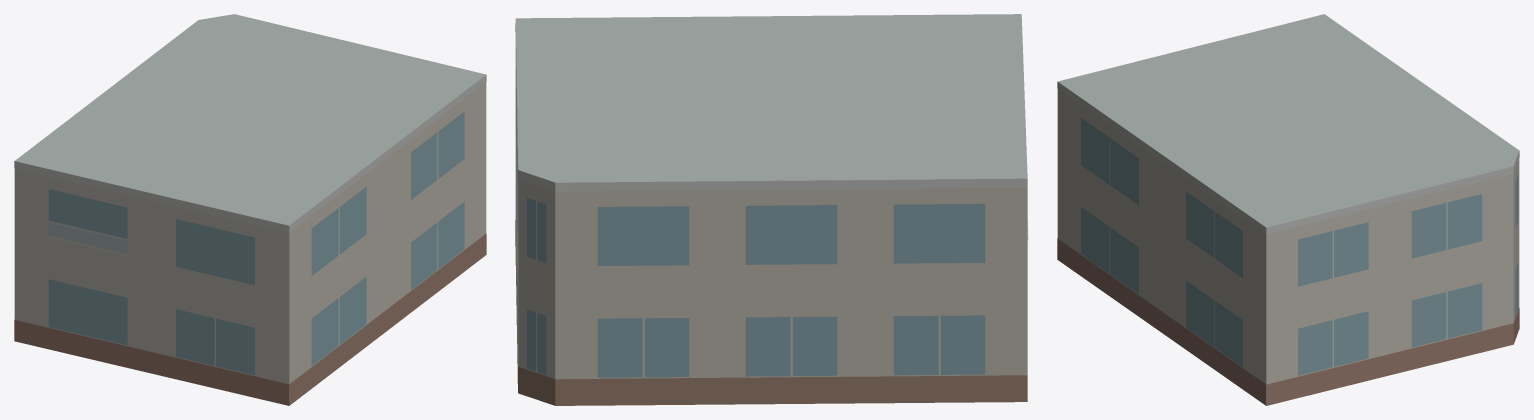
Rendered from survey-upis-32674337.glb.
3 renders of one model, left to right at view 1: azimuth 30°, elevation 25°; view 2: azimuth 150°, elevation 25°; view 3: azimuth 270°, elevation 25°, orthographic. The views are drawn at different scales.
Visible parts, largest first — view 1: survey-upis-32674337.tmp; view 2: survey-upis-32674337.tmp; view 3: survey-upis-32674337.tmp.
Boxes of the visible parts, x1,y1,x2,y2 form: survey-upis-32674337.tmp: (14,14,486,405); survey-upis-32674337.tmp: (515,14,1028,405); survey-upis-32674337.tmp: (1057,14,1519,405).
Bounding box in the file's own units: 15.69 × 6.1 × 14.34.
